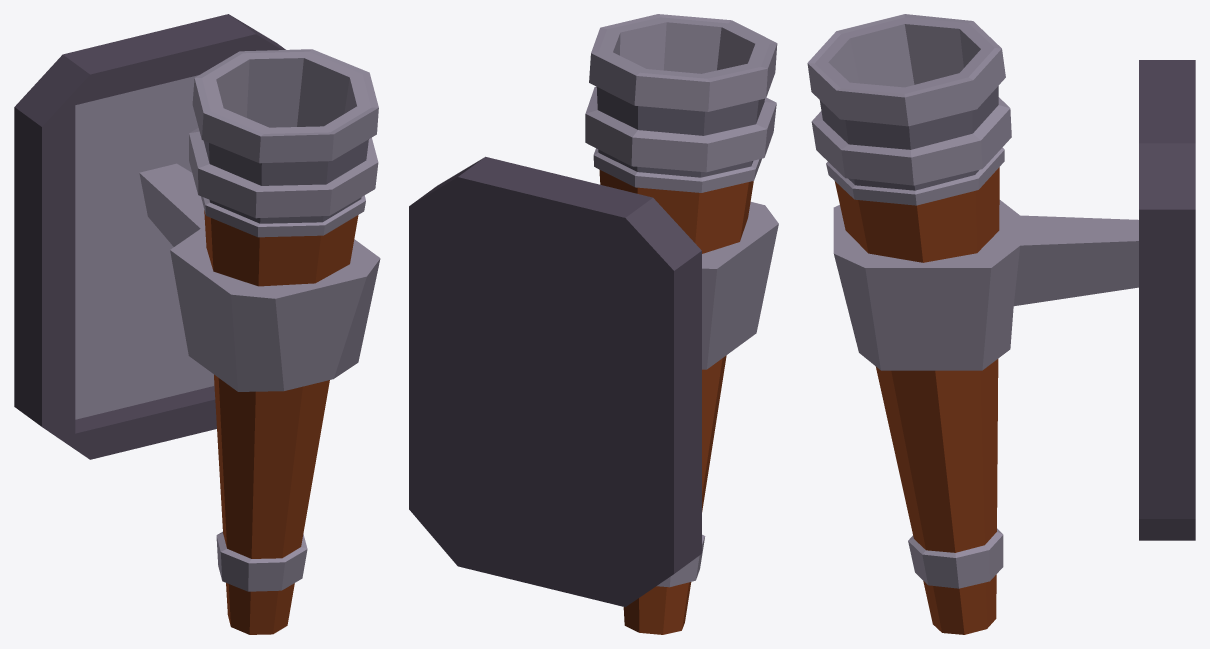
Rendered from Torch.fbx.
The picture shows the model from 3 angles, left to right: view 1: azimuth 30°, elevation 25°; view 2: azimuth 150°, elevation 25°; view 3: azimuth 270°, elevation 25°; orthographic projection. The views are drawn at different scales.
Visible parts, largest first — view 1: Plane; view 2: Plane; view 3: Plane.
Boxes of the visible parts, x1=… form: Plane: x1=14, y1=14, x2=380, y2=634; Plane: x1=409, y1=14, x2=778, y2=634; Plane: x1=807, y1=14, x2=1195, y2=634.
Size of the model in its own units: 9.88 by 20.12 by 12.28.
Materials: 1 (1 with a texture image).
